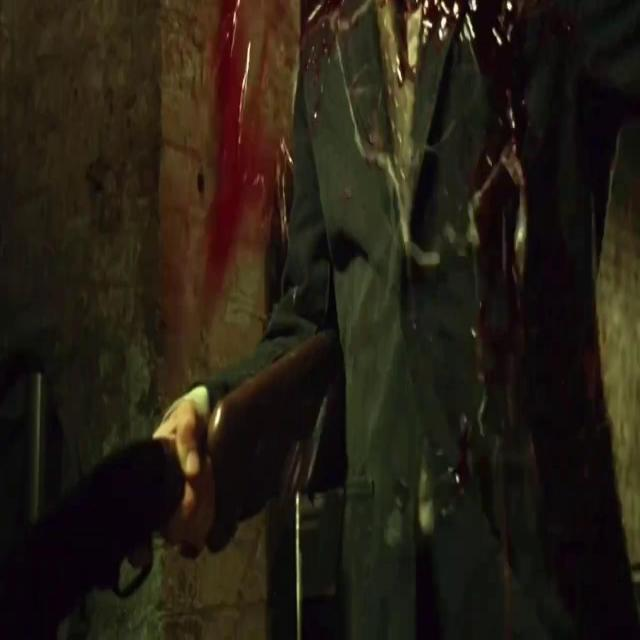flood: (198, 0, 438, 294)
